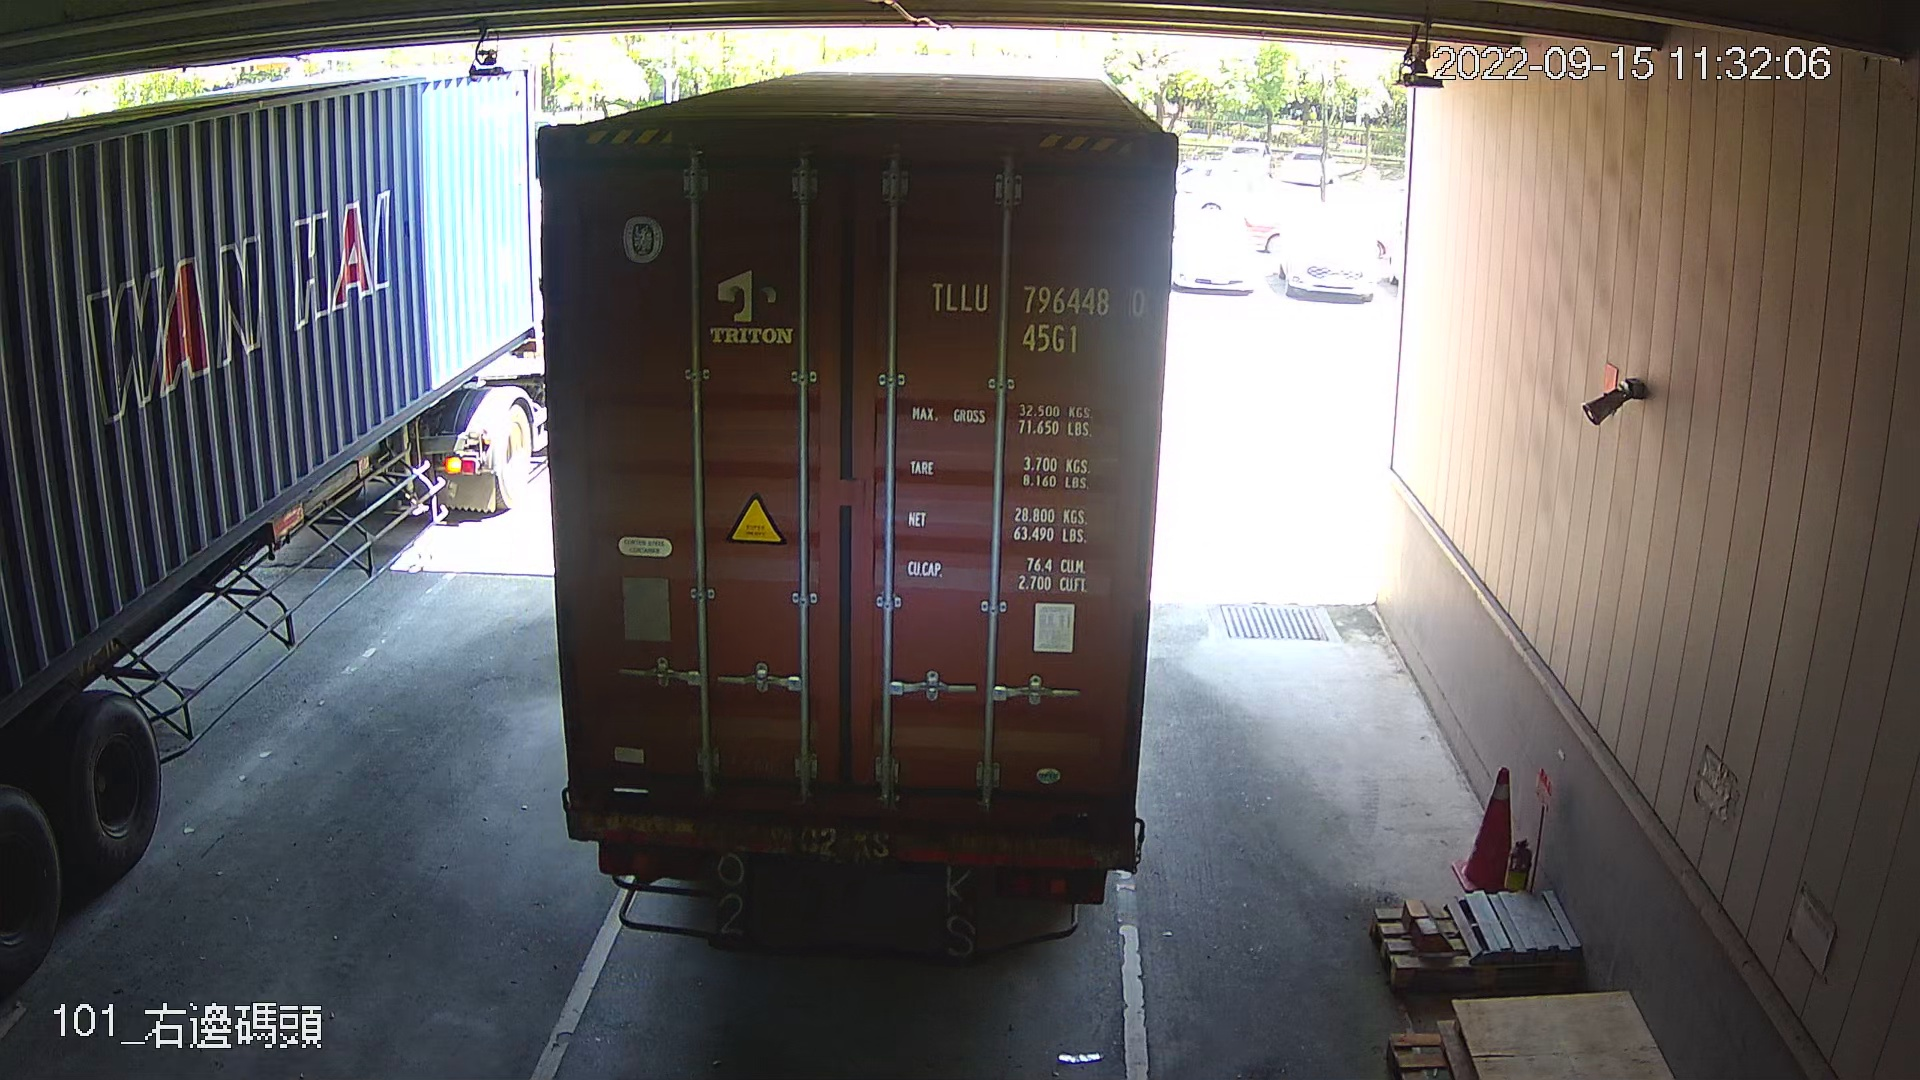container: (923, 273, 1154, 363)
